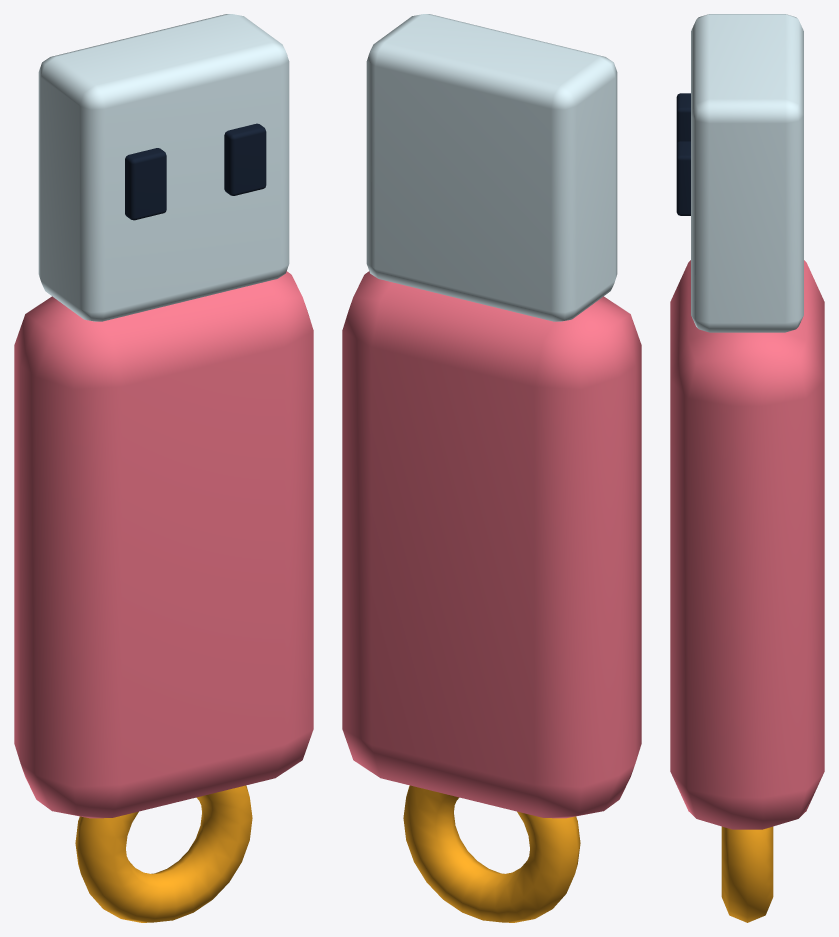
The model's file is usbdrive.glb.
The picture shows the model from 3 angles, left to right: view 1: azimuth 30°, elevation 25°; view 2: azimuth 150°, elevation 25°; view 3: azimuth 270°, elevation 25°; orthographic projection.
Visible parts, largest first — view 1: usbdrive; view 2: usbdrive; view 3: usbdrive.
Boxes of the visible parts, x1=… form: usbdrive: x1=14, y1=14, x2=313, y2=922; usbdrive: x1=342, y1=14, x2=641, y2=922; usbdrive: x1=670, y1=14, x2=824, y2=922.
Size of the model in its own units: 0.3261 by 1 by 0.163.
Materials: 1 (1 with a texture image).
